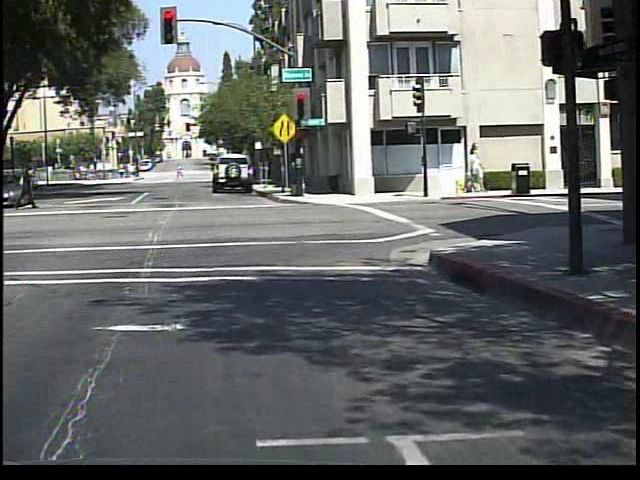person: (7, 167, 34, 222), (17, 164, 40, 209), (177, 163, 187, 180)
